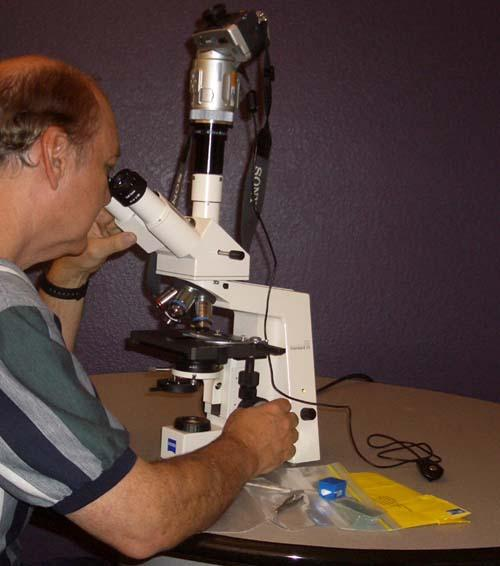person: (2, 56, 301, 566)
